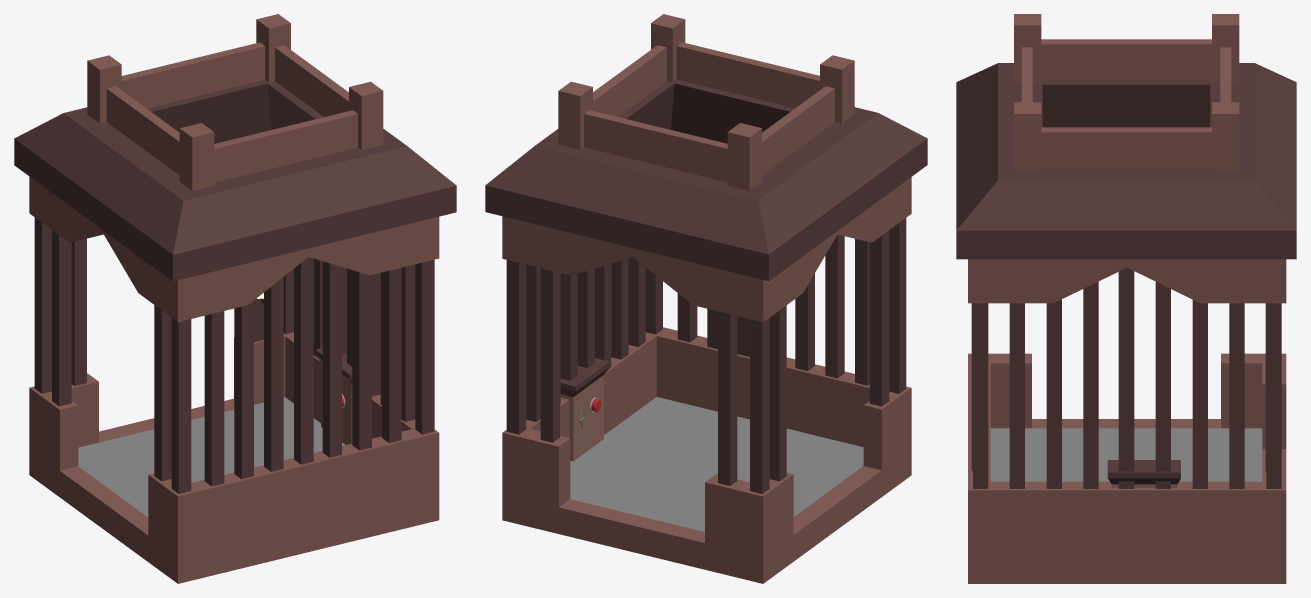
The model's file is Lift.fbx.
3 renders of one model, left to right at view 1: azimuth 30°, elevation 25°; view 2: azimuth 150°, elevation 25°; view 3: azimuth 270°, elevation 25°, orthographic. The views are drawn at different scales.
Parts seen in each view (by area): view 1: Lift, LiftBar_016, LiftBar, LiftBar_017, LiftBar_012, LiftBar_019, LiftBar_021, LiftBar_018, LiftBar_020, LiftBar_006, LiftBar_010, LiftBar_011 (+8 smaller); view 2: Lift, LiftBar_005, LiftBar_013, LiftBar_011, LiftBar_015, LiftBar_014, Liftbox, LiftBar_012, LiftBar_010, LiftBar_018, LiftBar_004, LiftBar_019 (+8 smaller); view 3: Lift, LiftBar_001, LiftBar_009, LiftBar_002, LiftBar_008, LiftBar_003, LiftBar_004, LiftBar_005, LiftBar_006, LiftBar_007, Liftbox.
Part boxes in pixels (x1=…): Lift: x1=14, y1=14, x2=456, y2=583; LiftBar_016: x1=294, y1=257, x2=313, y2=464; LiftBar: x1=322, y1=261, x2=341, y2=457; LiftBar_017: x1=264, y1=277, x2=283, y2=471; LiftBar_012: x1=171, y1=318, x2=191, y2=493; LiftBar_019: x1=204, y1=311, x2=224, y2=486; LiftBar_021: x1=352, y1=270, x2=371, y2=450; LiftBar_018: x1=234, y1=301, x2=253, y2=479; LiftBar_020: x1=382, y1=267, x2=401, y2=443; LiftBar_006: x1=415, y1=259, x2=434, y2=434; LiftBar_010: x1=52, y1=230, x2=71, y2=406; LiftBar_011: x1=34, y1=217, x2=51, y2=393; Lift: x1=485, y1=14, x2=927, y2=583; LiftBar_005: x1=506, y1=260, x2=526, y2=434; LiftBar_013: x1=869, y1=230, x2=889, y2=406; LiftBar_011: x1=750, y1=318, x2=769, y2=493; LiftBar_015: x1=540, y1=268, x2=559, y2=442; LiftBar_014: x1=718, y1=311, x2=737, y2=485; Liftbox: x1=560, y1=358, x2=609, y2=461; LiftBar_012: x1=889, y1=218, x2=906, y2=393; LiftBar_010: x1=769, y1=305, x2=786, y2=481; LiftBar_018: x1=825, y1=234, x2=844, y2=378; LiftBar_004: x1=526, y1=264, x2=540, y2=421; LiftBar_019: x1=855, y1=239, x2=869, y2=385; Lift: x1=956, y1=14, x2=1296, y2=583; LiftBar_001: x1=1118, y1=267, x2=1134, y2=488; LiftBar_009: x1=1083, y1=281, x2=1098, y2=488; LiftBar_002: x1=1155, y1=282, x2=1170, y2=488; LiftBar_008: x1=1046, y1=299, x2=1061, y2=488; LiftBar_003: x1=1192, y1=300, x2=1207, y2=488; LiftBar_004: x1=1229, y1=303, x2=1244, y2=488; LiftBar_005: x1=1266, y1=303, x2=1281, y2=488; LiftBar_006: x1=973, y1=303, x2=988, y2=488; LiftBar_007: x1=1009, y1=303, x2=1024, y2=488; Liftbox: x1=1107, y1=460, x2=1180, y2=487.
Size of what is drawn, in the model's own units: 607 by 862 by 588.
